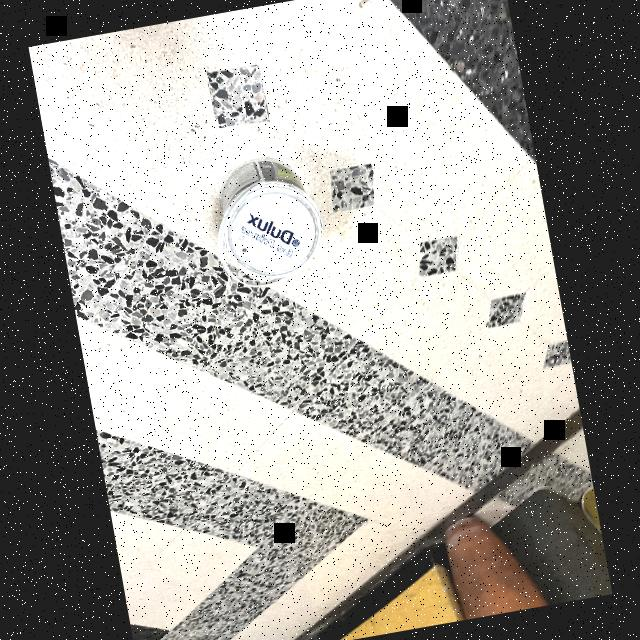paint_bucket: (201, 147, 328, 290)
